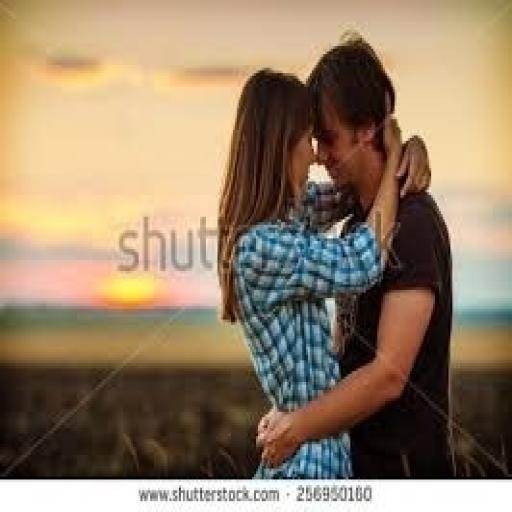hugging: (216, 32, 456, 480)
